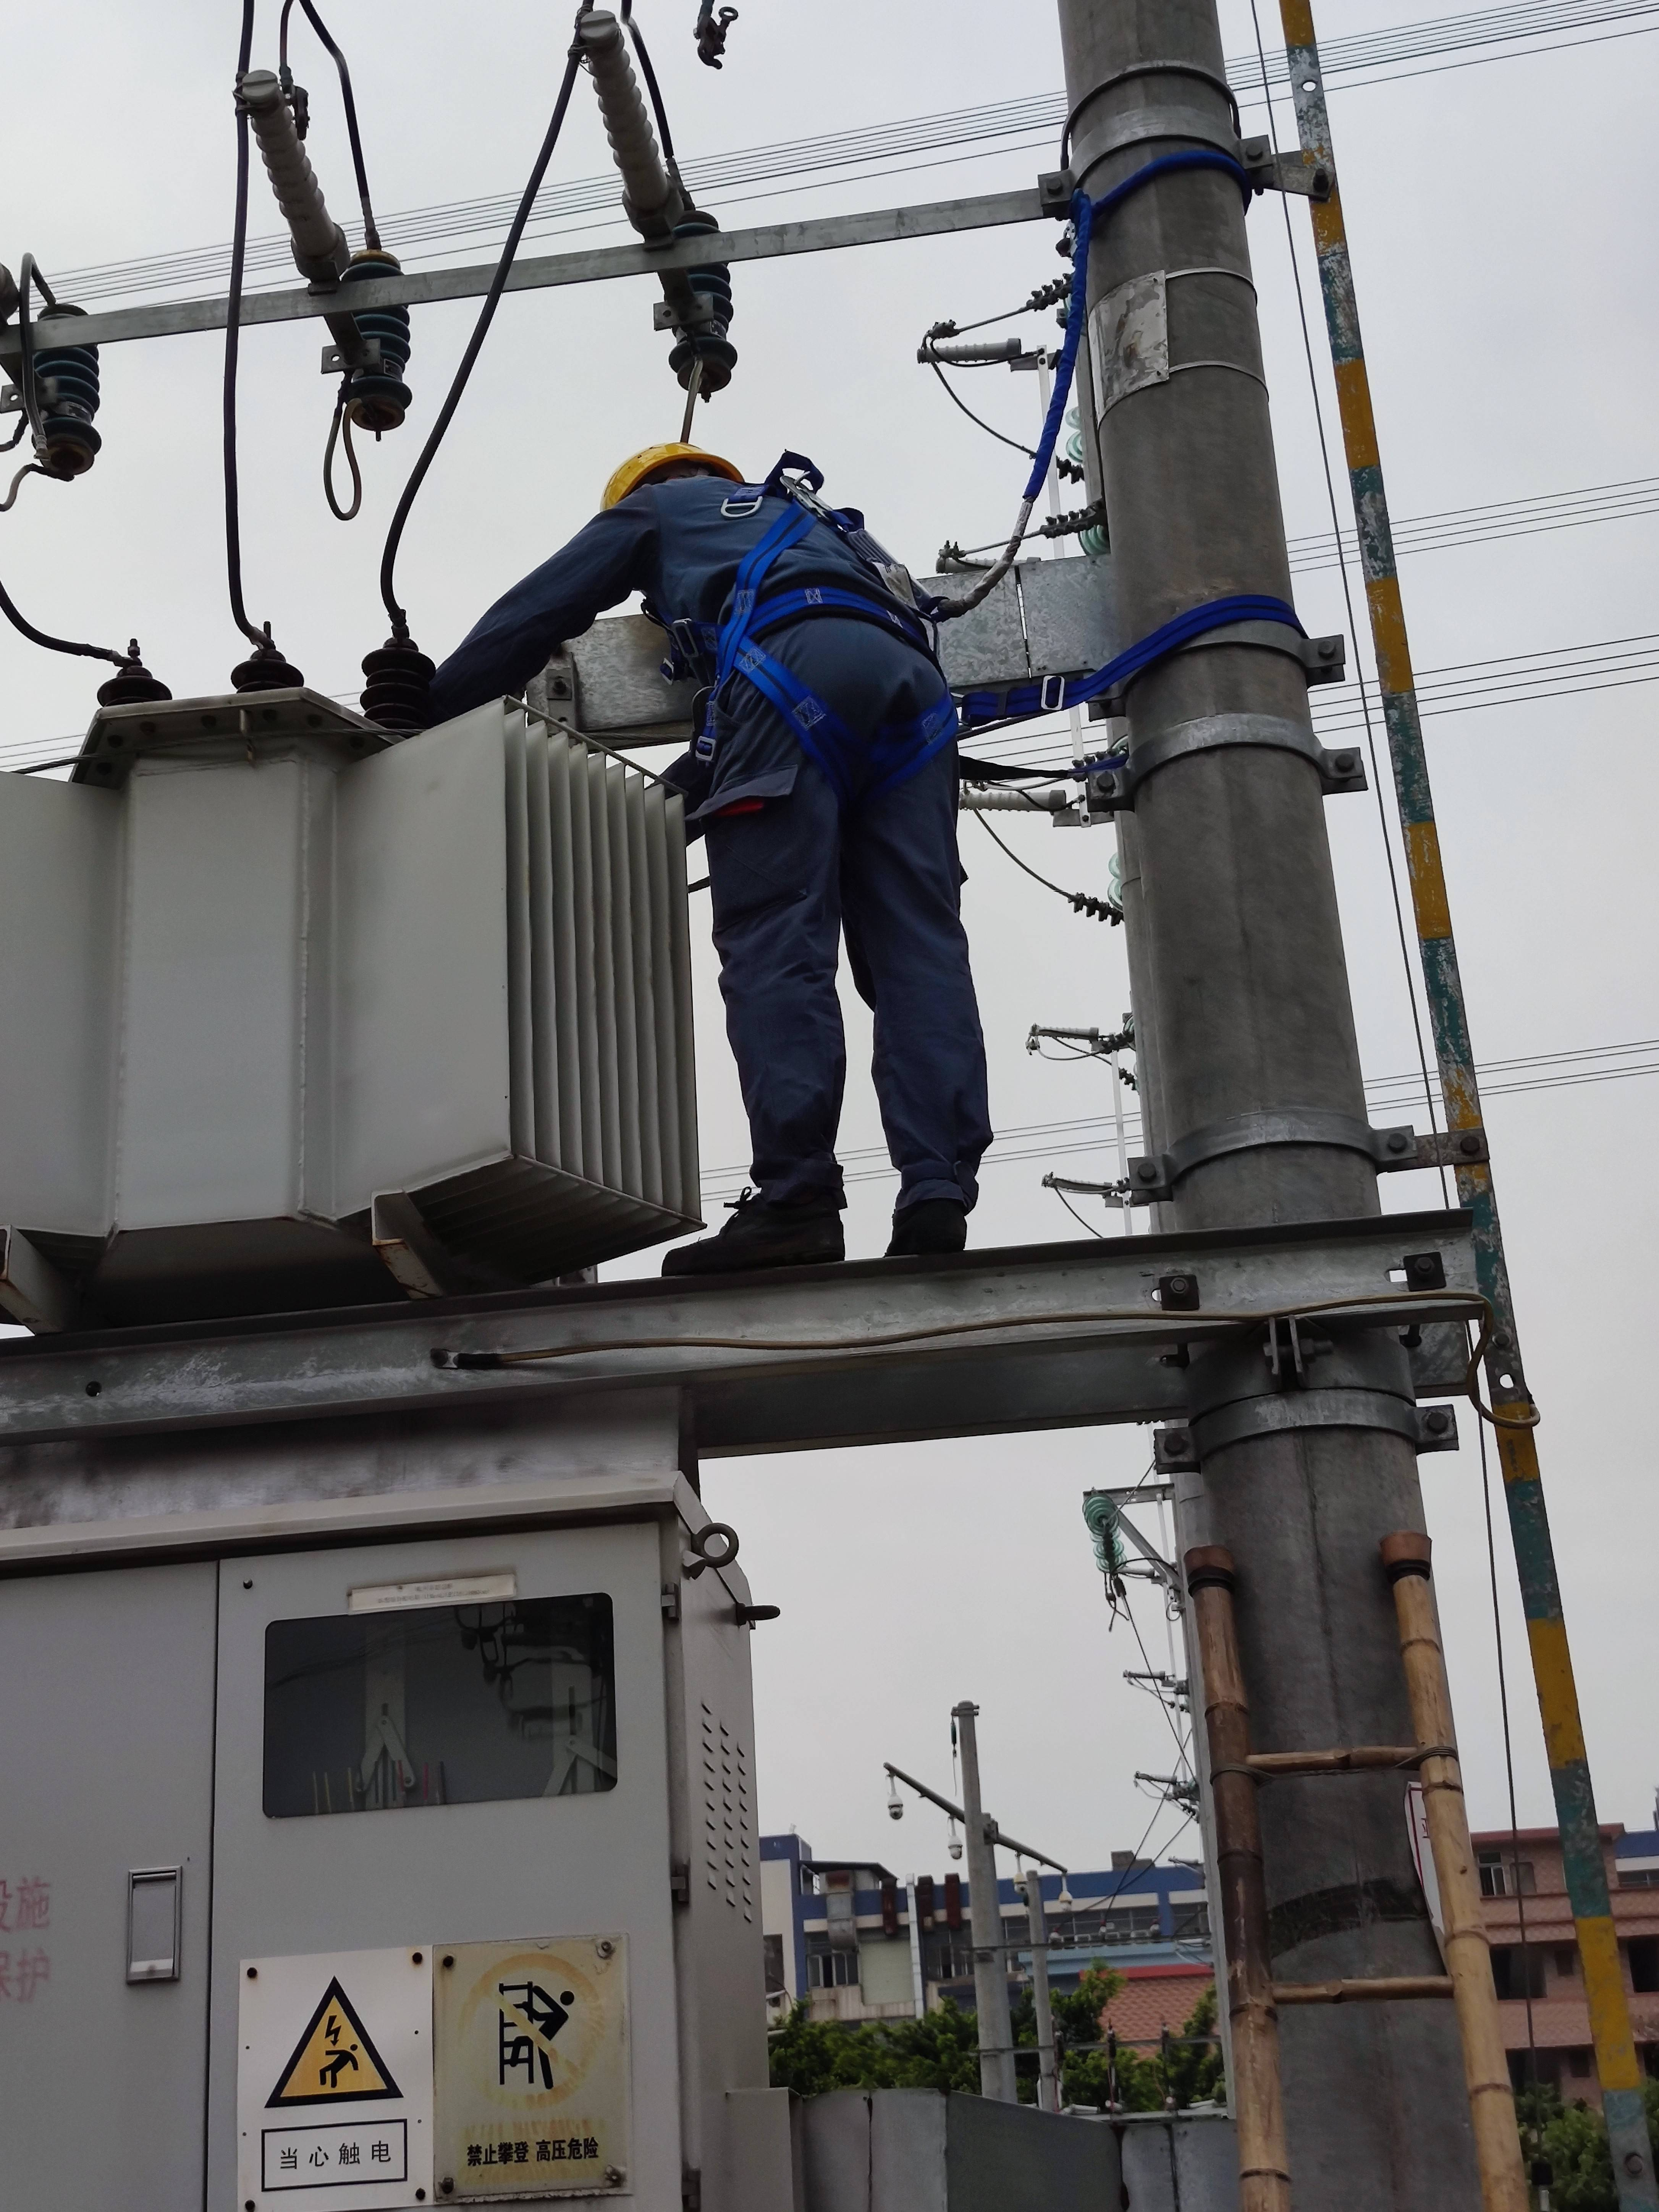downsuit: (681, 658, 997, 1200)
upsuit: (471, 458, 922, 634)
